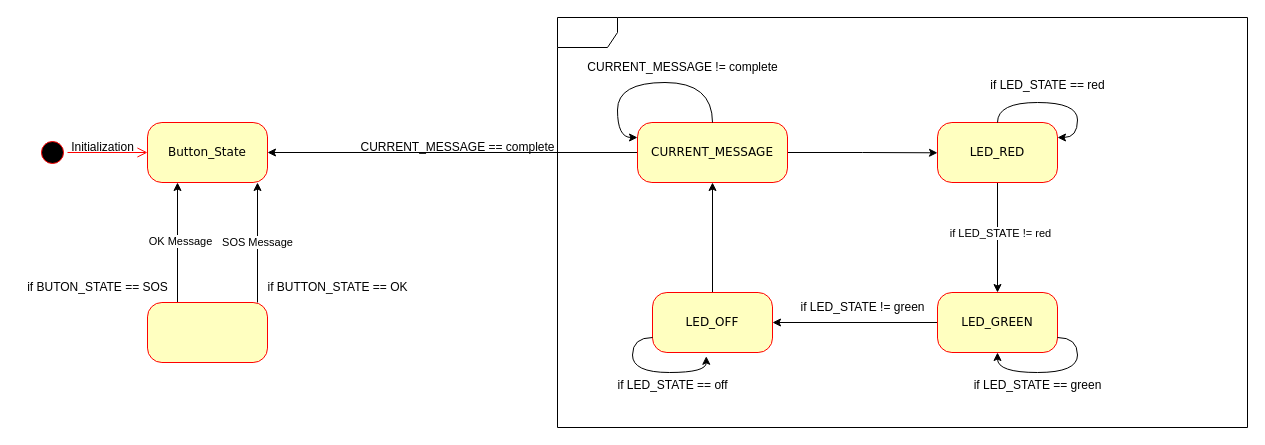
Image size: 1265x445. Some labels were removed from this diagram. The shapes that lost their labels are listed below. From the top down, each one's centre as x and y in pixels, then its label:
the point at 902,222: Timer Loop
the point at 207,332: Button Pressed
